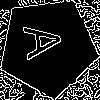A: (23, 21, 72, 61)
